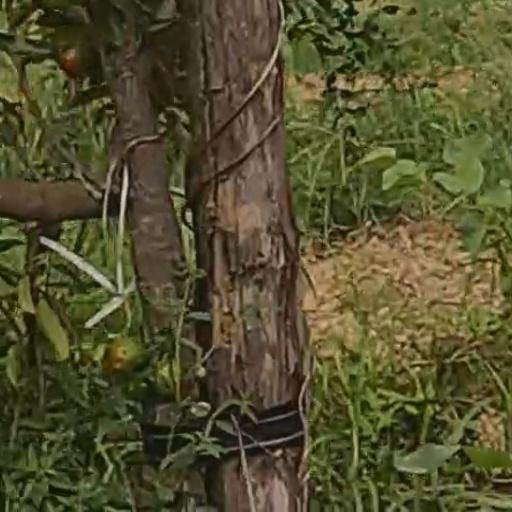acerola: (103, 338, 142, 372), (59, 46, 83, 75)
